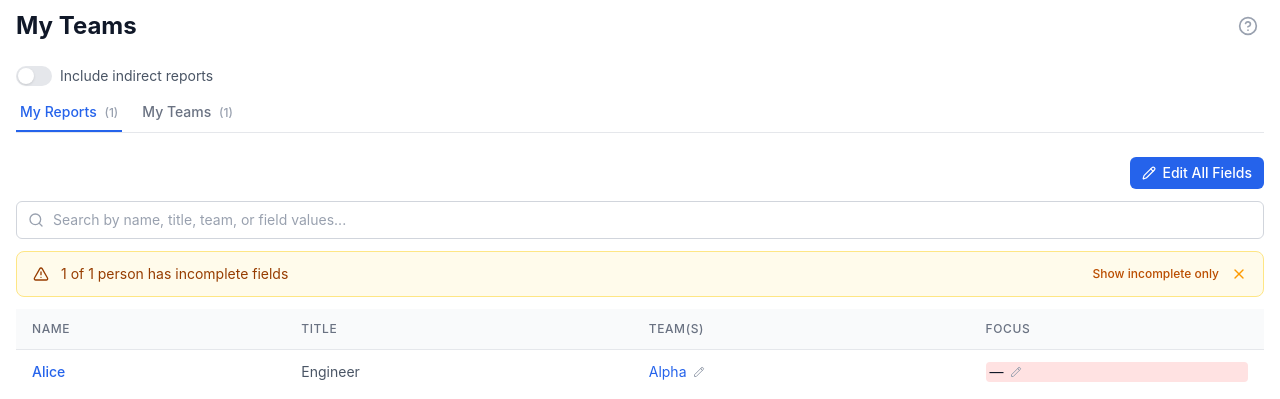
Test case: ManagerDashboardView › field completeness warnings › resets both filter and dismiss on tab switch
// Dismiss the banner
Step 1. Click the 6th button → (1239, 274), box [1231,266,1247,282]
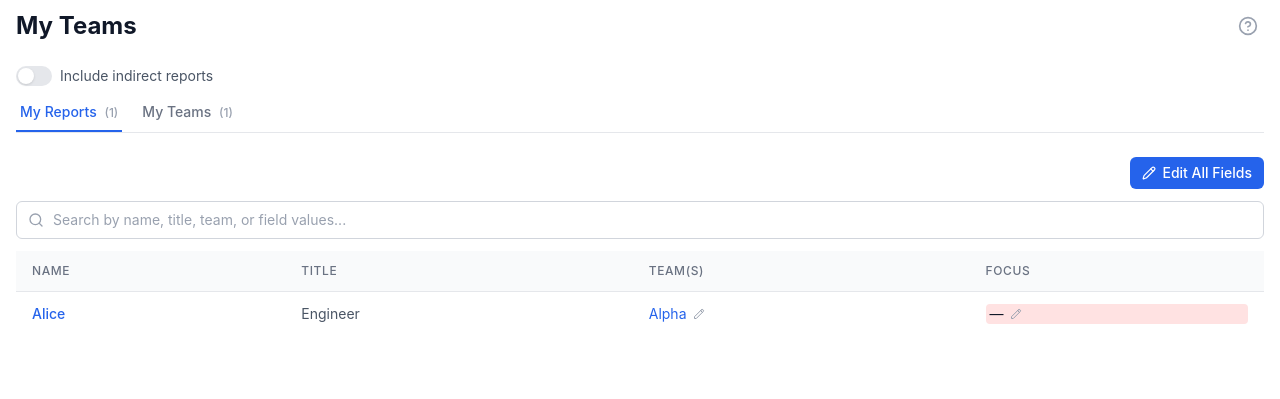
Result: the text "incomplete fields" is gone
// Switch to teams tab and back — banner should reappear
Step 2. Click the button "My Teams (1)" → (188, 117), box [138,102,237,132]
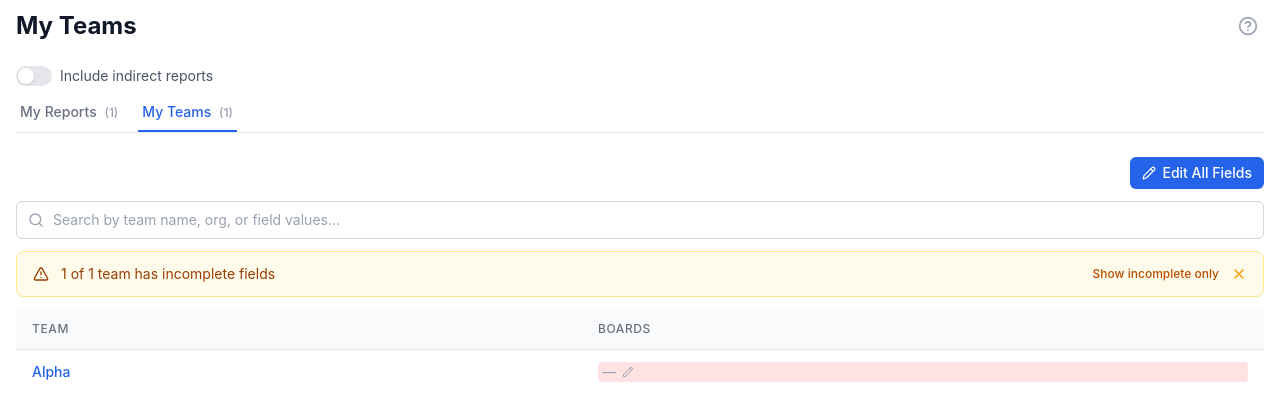
Step 3. Click the button "My Reports (1)" → (69, 117), box [16,102,122,132]
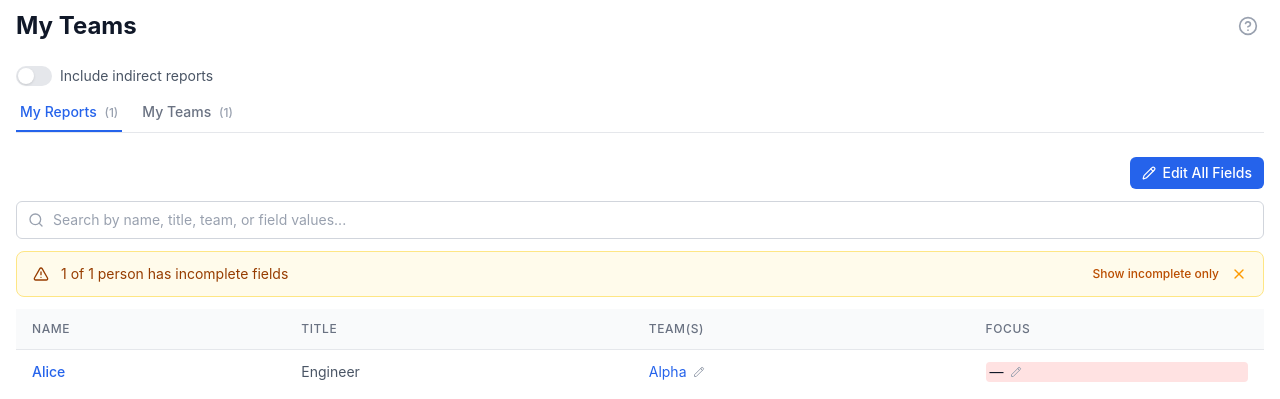
Result: the text "1 of 1 person has incomplete fields" is shown at [61,264,288,284]
